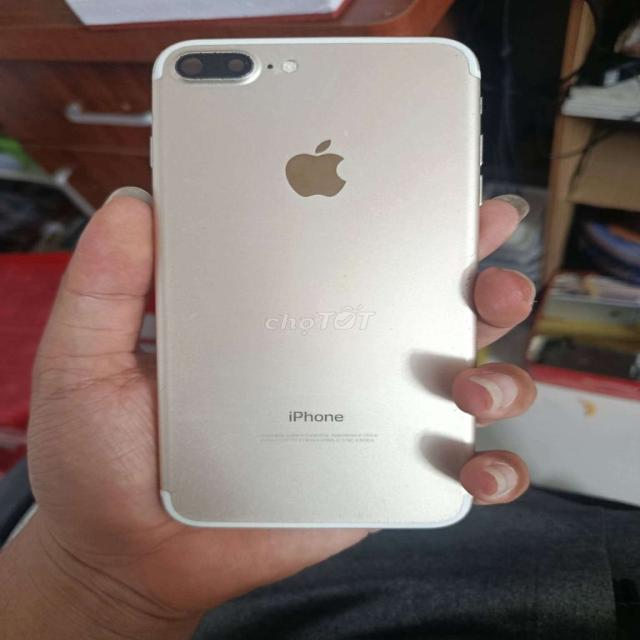scratch: (168, 48, 264, 90)
